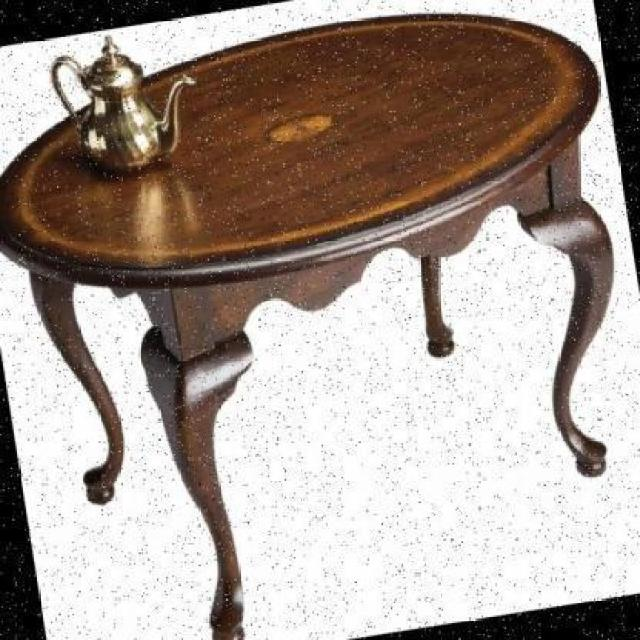tables: (0, 9, 614, 638)
